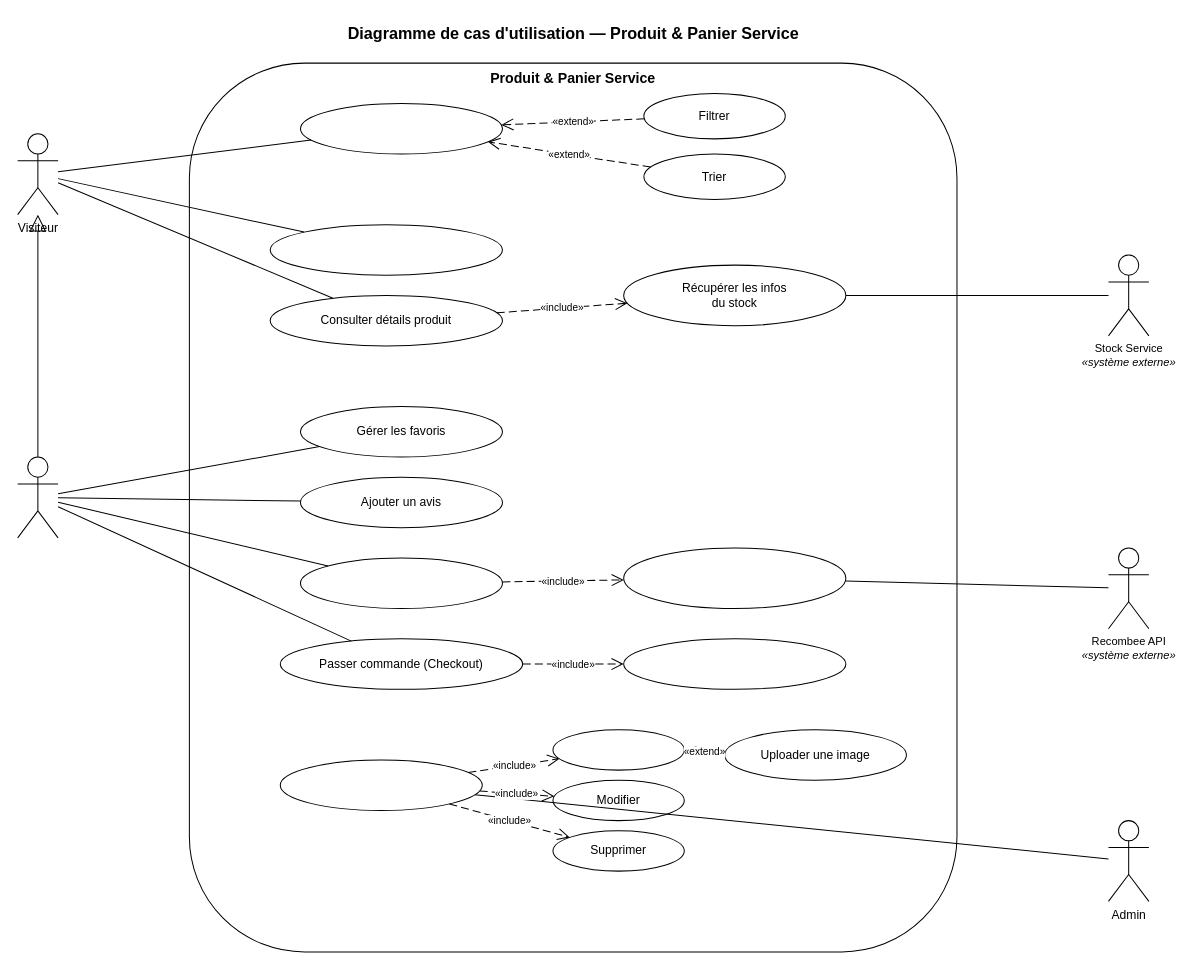
Image size: 1193x970. Some labels were removed from this diagram. Here are the shapes that lost their labels. From the top down, the box of each, then its label:
(299, 103, 502, 154): Rechercher un produit
(269, 224, 502, 275): Consulter la page d'accueil
(17, 456, 58, 538): Client
(299, 557, 502, 609): Gérer le panier
(623, 547, 846, 609): Synchroniser avec Recombee
(623, 638, 846, 689): Calculer frais de livraison
(552, 729, 684, 770): Ajouter
(279, 759, 482, 811): Gérer les produits
